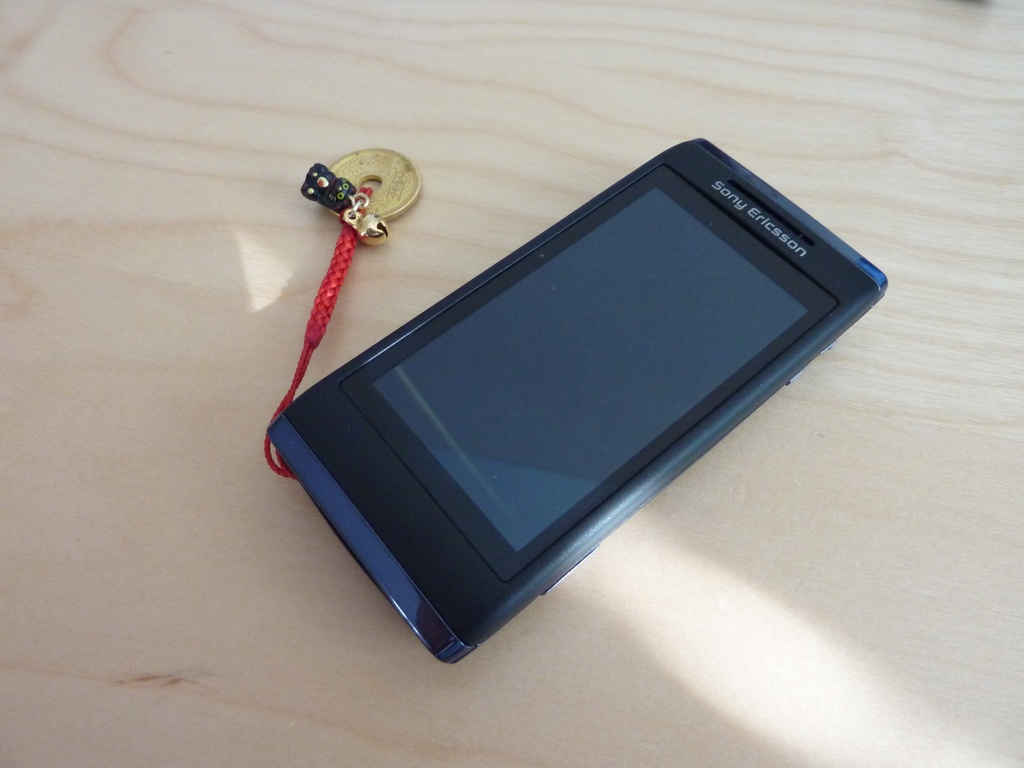mobile phone: (240, 144, 914, 638)
